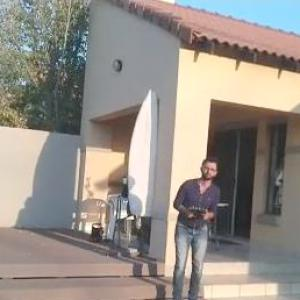follow: (167, 152, 224, 299)
